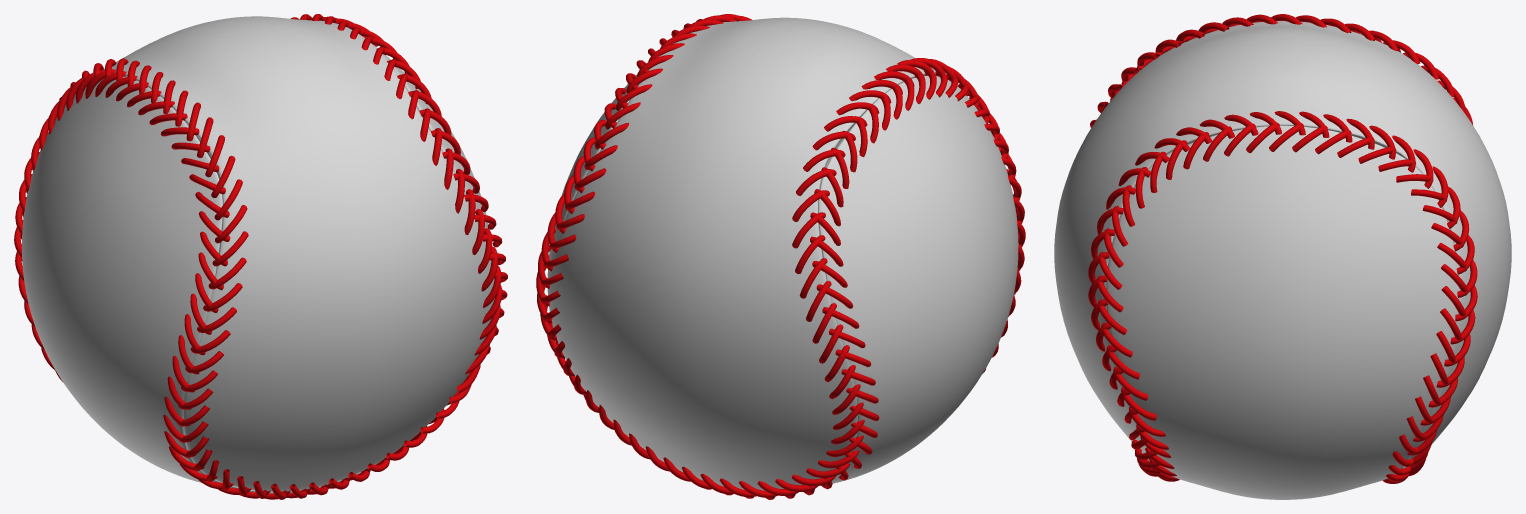
The model's file is baseball.fbx.
3 renders of one model, left to right at view 1: azimuth 30°, elevation 25°; view 2: azimuth 150°, elevation 25°; view 3: azimuth 270°, elevation 25°, orthographic.
Visible parts, largest first — view 1: ball, stitches; view 2: ball, stitches; view 3: ball, stitches.
Part boxes in pixels (left/top/right/bottom): ball: left=21, top=16, right=494, bottom=493; stitches: left=14, top=14, right=507, bottom=499; ball: left=547, top=17, right=1018, bottom=490; stitches: left=536, top=14, right=1025, bottom=499; ball: left=1054, top=21, right=1511, bottom=499; stitches: left=1088, top=14, right=1477, bottom=483.
Bounding box in the file's own units: 191 × 199 × 191.
